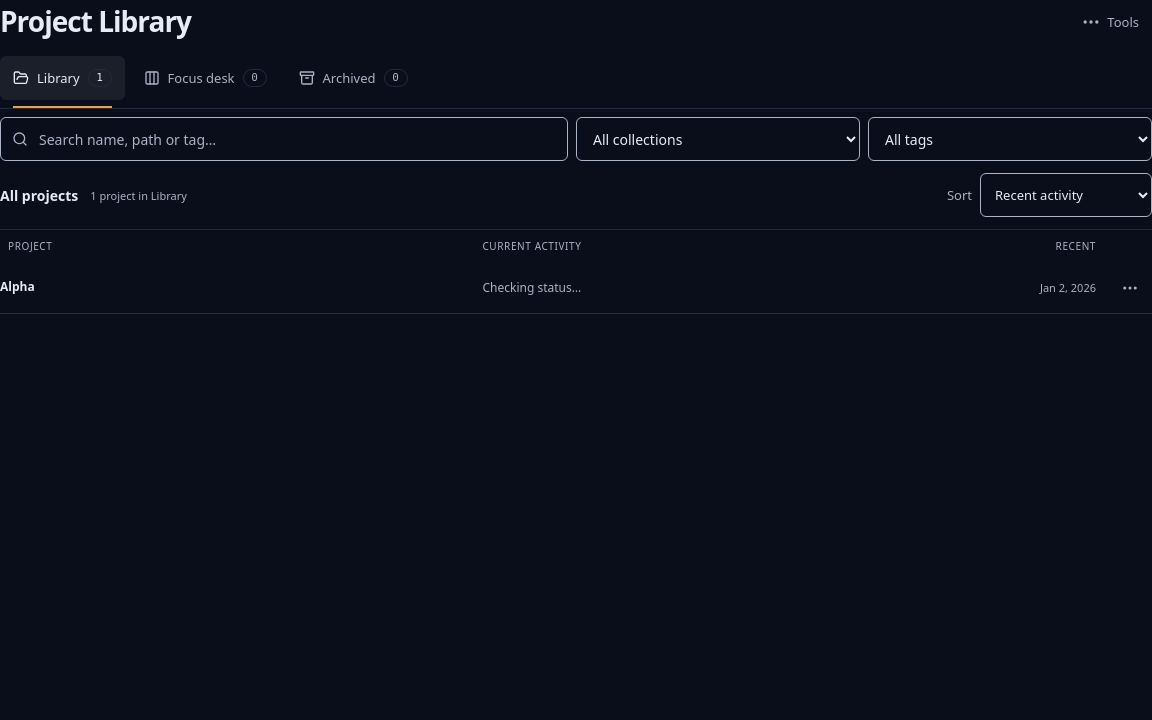
Test case: Library page states and affordances › confirms organization with a dismissible notice
The image size is (1152, 720).
Click the button named "Details and organization for Alpha": (1130, 288) [1108,266,1151,310]
(page scrolled)
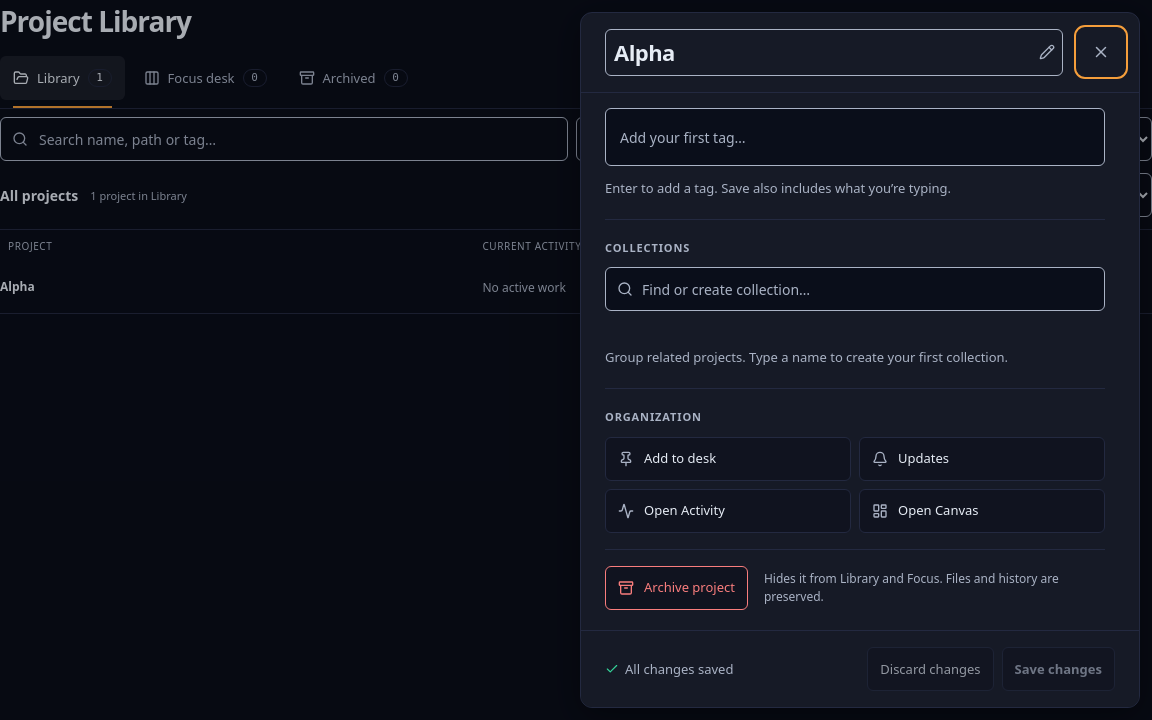
Click the button "Add to desk": (728, 458) [605,436,851,480]
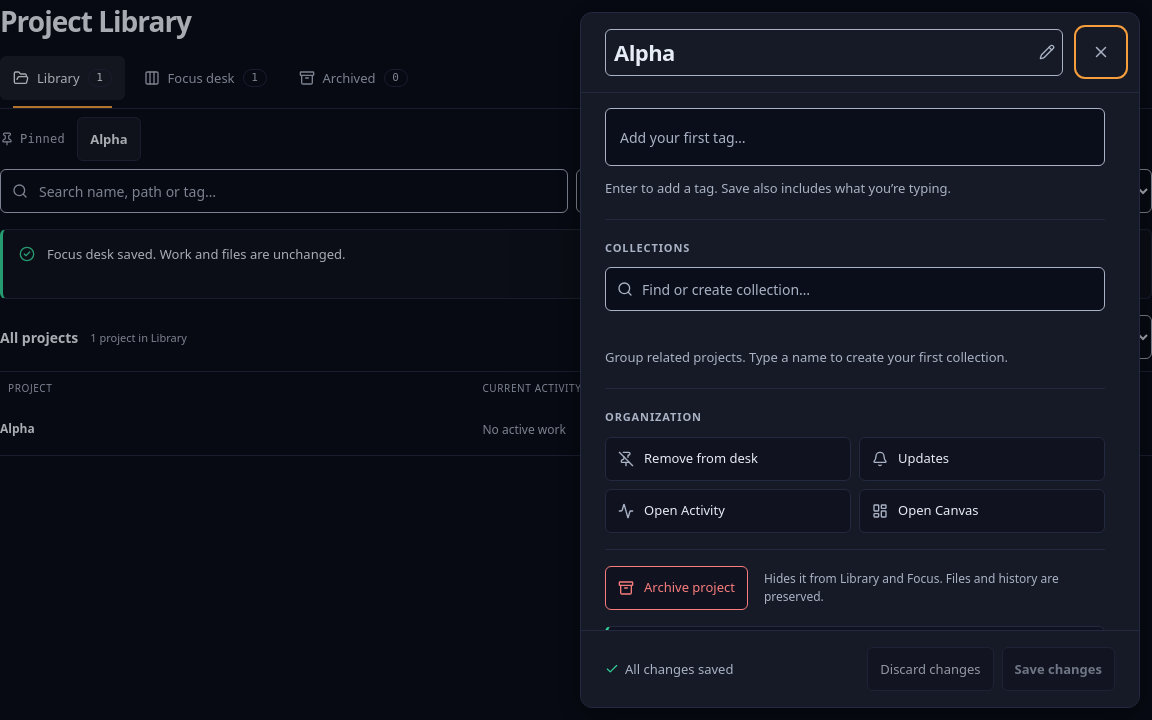
Result: the text "Focus desk saved. Work and files are unchanged." is shown at [47,245,346,263]
Click the button named "Close": (1101, 52) [1079,30,1123,74]
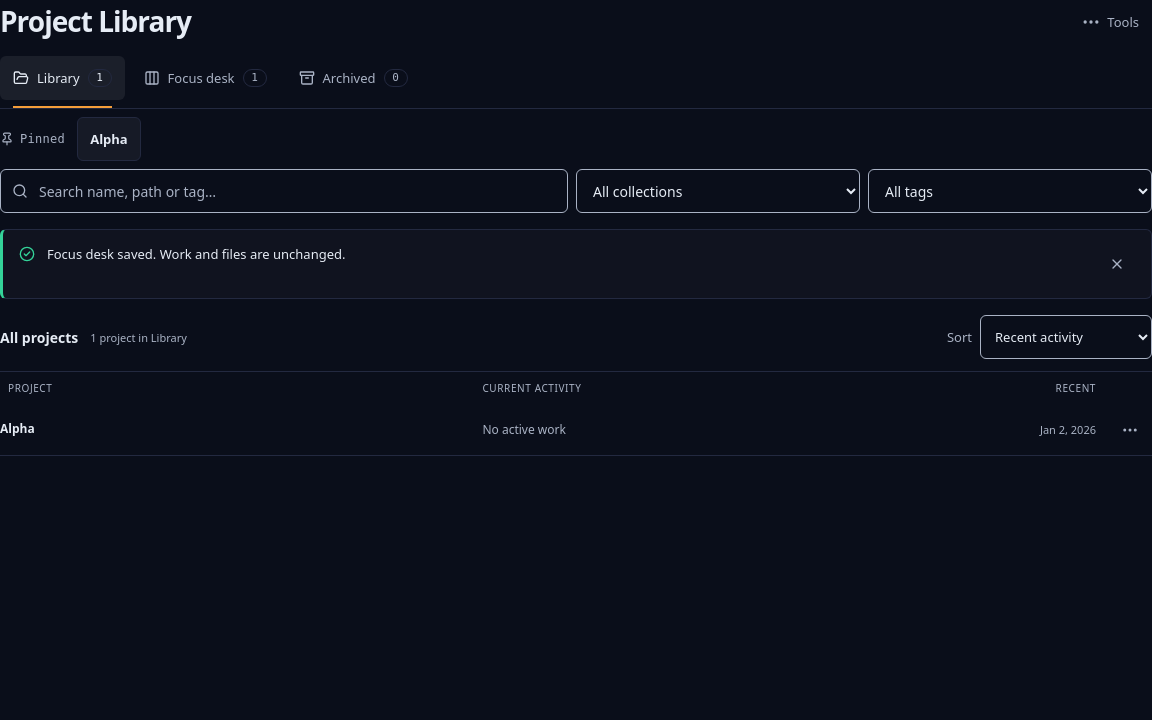
Click the button named "Dismiss message": (1117, 264) [1095,242,1139,286]
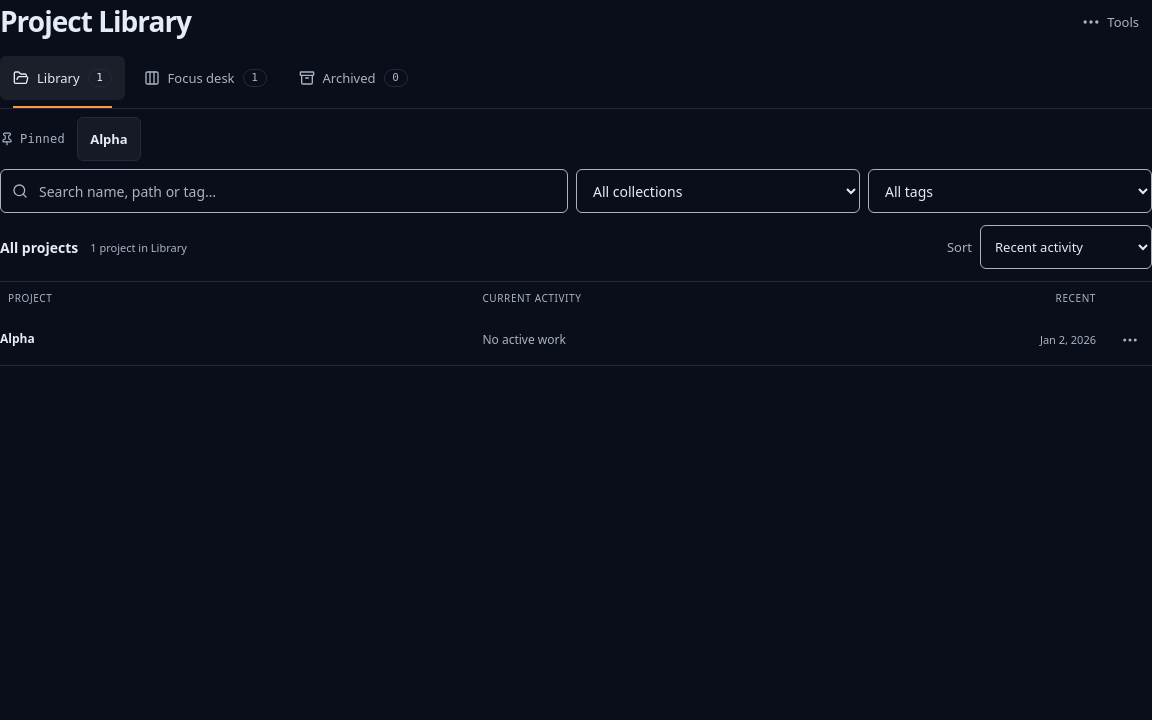
Result: the text "Focus desk saved. Work and files are unchanged." is gone
